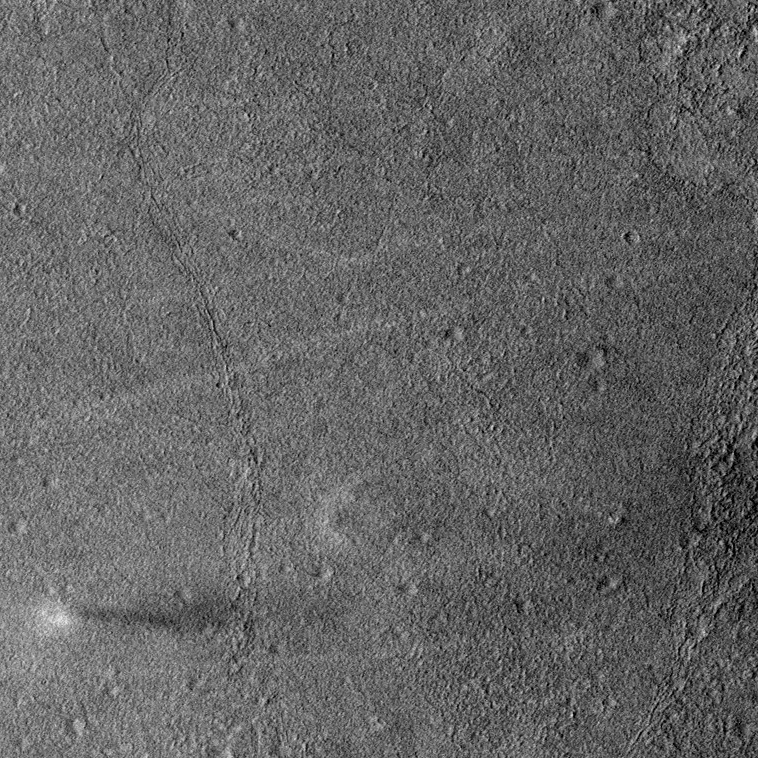dust_devil: (40, 599, 249, 638)
